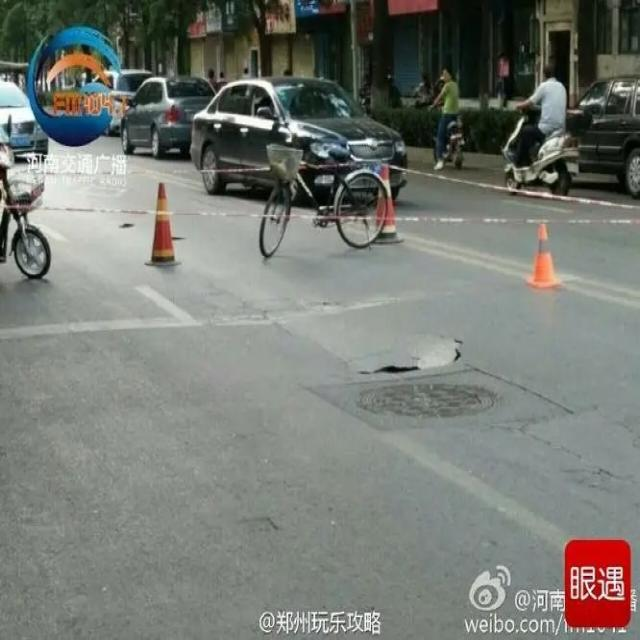Pothole: (354, 333, 471, 383)
